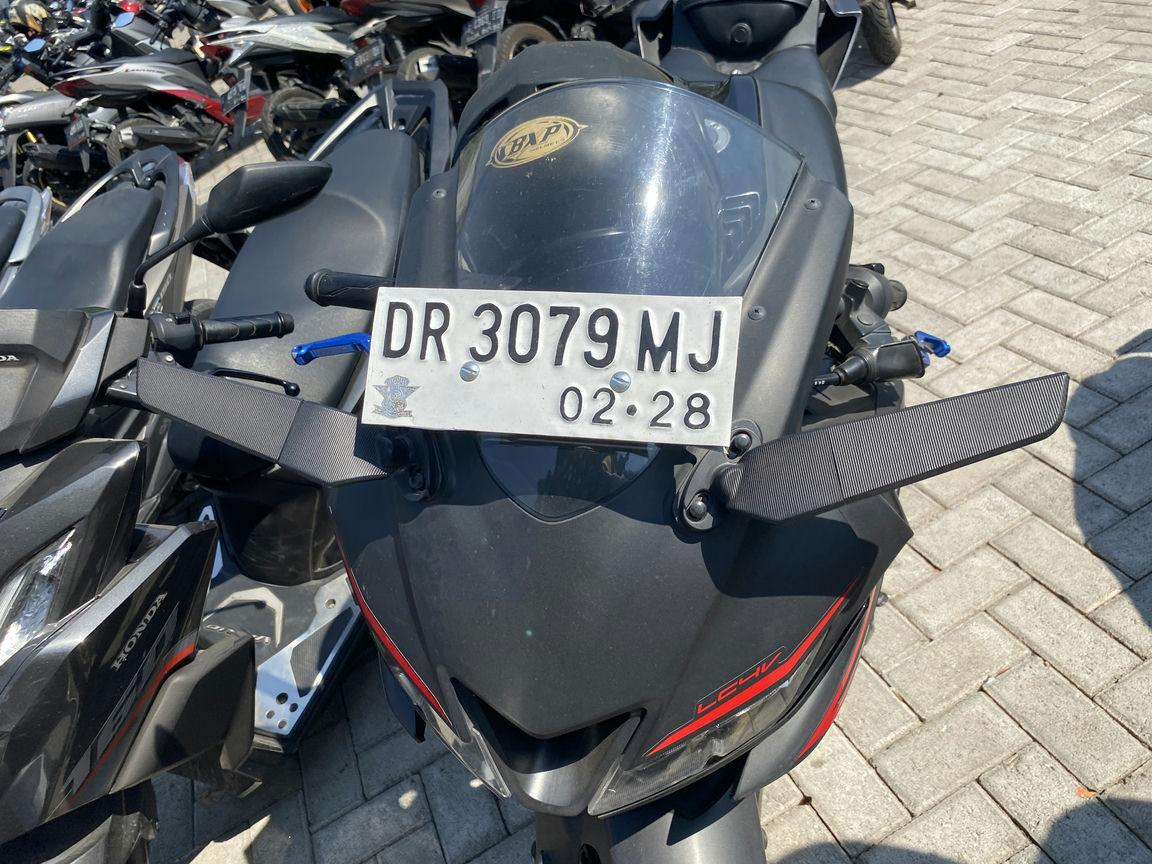plat: (362, 288, 742, 448)
